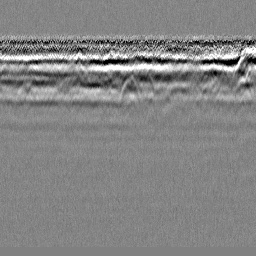cavity: (118, 74, 141, 104)
